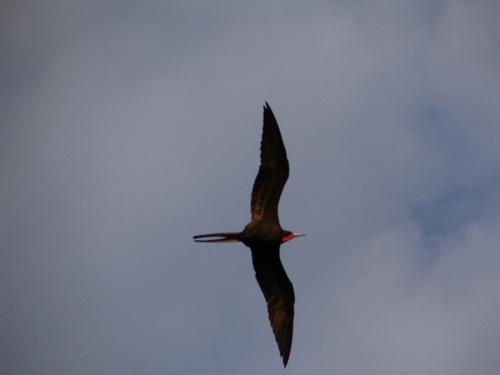bird: (180, 99, 306, 369)
